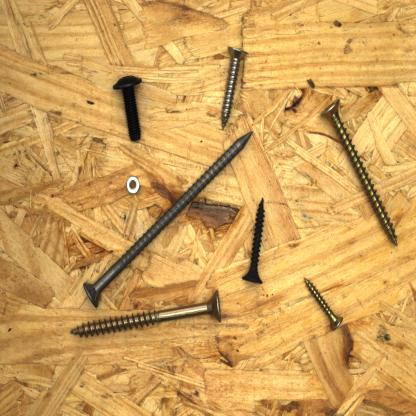screw: (80, 128, 256, 310), (318, 95, 401, 248), (67, 288, 223, 340), (108, 70, 146, 145), (301, 272, 346, 334), (219, 43, 250, 133), (240, 195, 268, 287)
